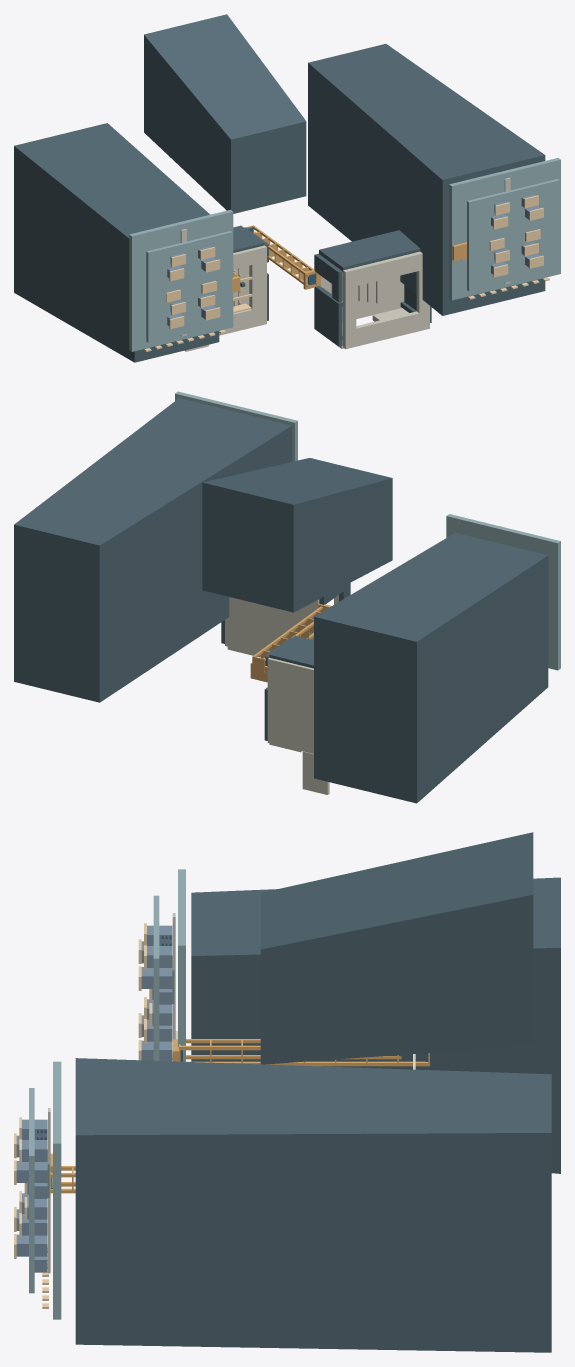
File: M3D1S_JUNCTION.obj
3 renders of one model, top to bottom at view 1: azimuth 30°, elevation 25°; view 2: azimuth 150°, elevation 25°; view 3: azimuth 270°, elevation 25°, orthographic. The views are drawn at different scales.
Visible parts, largest first — view 1: EAST_CITY_MASS, WEST_CITY_MASS, NORTH_DIAGONAL_CITY_SUPPORT, EAST_LIVING_TERRACE_LEVEL_2, WEST_LIVING_TERRACE_LEVEL_2, WEST_LIVING_TERRACE_MAIN_FLOOR, EAST_LIVING_TERRACE_MAIN_FLOOR, P2_NORTH_WALL, P2_ROOF_S, P2_ROOF_N, P2_WEST_WALL_SOUTH, P2_CIVIC_FLOOR (+6 smaller); view 2: EAST_CITY_MASS, WEST_CITY_MASS, NORTH_DIAGONAL_CITY_SUPPORT, P1_CIVIC_FLOOR, WEST_LIVING_TERRACE_MAIN_FLOOR, P2_CIVIC_FLOOR, EAST_LIVING_TERRACE_MAIN_FLOOR, P1_NORTH_WALL_EAST, P1_PUBLIC_APPROACH; view 3: EAST_CITY_MASS, NORTH_DIAGONAL_CITY_SUPPORT, WEST_CITY_MASS, EAST_LIVING_TERRACE_MAIN_FLOOR, WEST_LIVING_TERRACE_MAIN_FLOOR, EAST_LIVING_TERRACE_LEVEL_2, WEST_LIVING_TERRACE_LEVEL_2, LIFT_W_COLUMN_1_-1.
Part boxes in pixels (box(x1,y1,x2,y2)): EAST_CITY_MASS: box(308, 44, 545, 315); WEST_CITY_MASS: box(14, 123, 219, 362); NORTH_DIAGONAL_CITY_SUPPORT: box(144, 14, 306, 213); EAST_LIVING_TERRACE_LEVEL_2: box(467, 179, 559, 291); WEST_LIVING_TERRACE_LEVEL_2: box(146, 231, 232, 342); WEST_LIVING_TERRACE_MAIN_FLOOR: box(129, 209, 233, 351); EAST_LIVING_TERRACE_MAIN_FLOOR: box(449, 158, 560, 300); P2_NORTH_WALL: box(319, 230, 420, 271); P2_ROOF_S: box(343, 311, 429, 349); P2_ROOF_N: box(343, 251, 422, 288); P2_WEST_WALL_SOUTH: box(314, 286, 342, 346); P2_CIVIC_FLOOR: box(318, 253, 404, 321); EAST_CITY_MASS: box(14, 398, 291, 702); WEST_CITY_MASS: box(314, 533, 548, 803); NORTH_DIAGONAL_CITY_SUPPORT: box(202, 458, 392, 612); P1_CIVIC_FLOOR: box(267, 657, 313, 753); WEST_LIVING_TERRACE_MAIN_FLOOR: box(446, 514, 560, 670); P2_CIVIC_FLOOR: box(225, 597, 319, 653); EAST_LIVING_TERRACE_MAIN_FLOOR: box(175, 391, 297, 461); P1_NORTH_WALL_EAST: box(269, 635, 313, 668); P1_PUBLIC_APPROACH: box(302, 751, 329, 794); EAST_CITY_MASS: box(75, 1058, 551, 1352); NORTH_DIAGONAL_CITY_SUPPORT: box(260, 832, 533, 1064); WEST_CITY_MASS: box(191, 877, 560, 1173); EAST_LIVING_TERRACE_MAIN_FLOOR: box(53, 1061, 61, 1319); WEST_LIVING_TERRACE_MAIN_FLOOR: box(178, 869, 185, 1061); EAST_LIVING_TERRACE_LEVEL_2: box(29, 1088, 34, 1293); WEST_LIVING_TERRACE_LEVEL_2: box(153, 895, 159, 1060); LIFT_W_COLUMN_1_-1: box(185, 1061, 428, 1066).
Bounding box in the file's own units: 2990 × 2140 × 2367.
